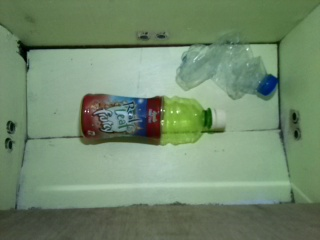bottle: (78, 92, 226, 151)
damaged-bottle: (175, 29, 278, 100)
